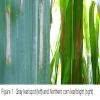Corn Gray leaf spot: (0, 0, 50, 84)
